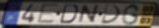4: (21, 4, 37, 24)
D: (100, 4, 122, 25), (58, 4, 79, 24)
E: (36, 3, 60, 25)
G: (120, 3, 142, 26)
N: (77, 4, 102, 24)
